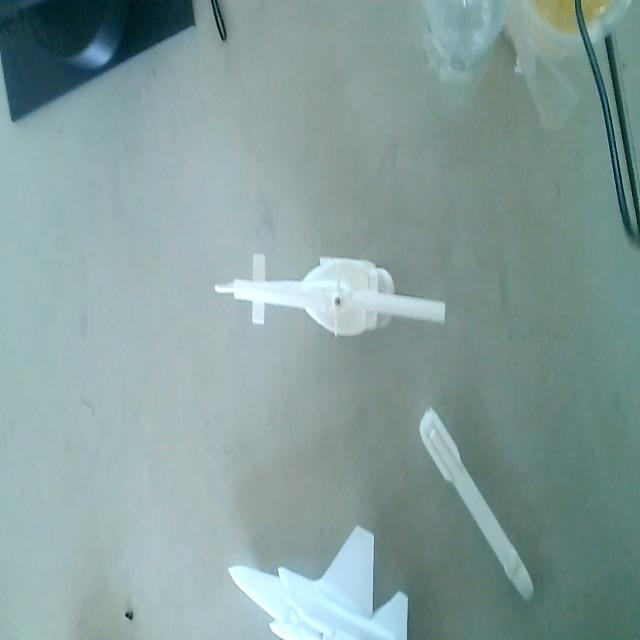Helicopter: (214, 246, 453, 351)
Jet: (224, 517, 412, 640)
Rocket: (416, 396, 536, 606)
